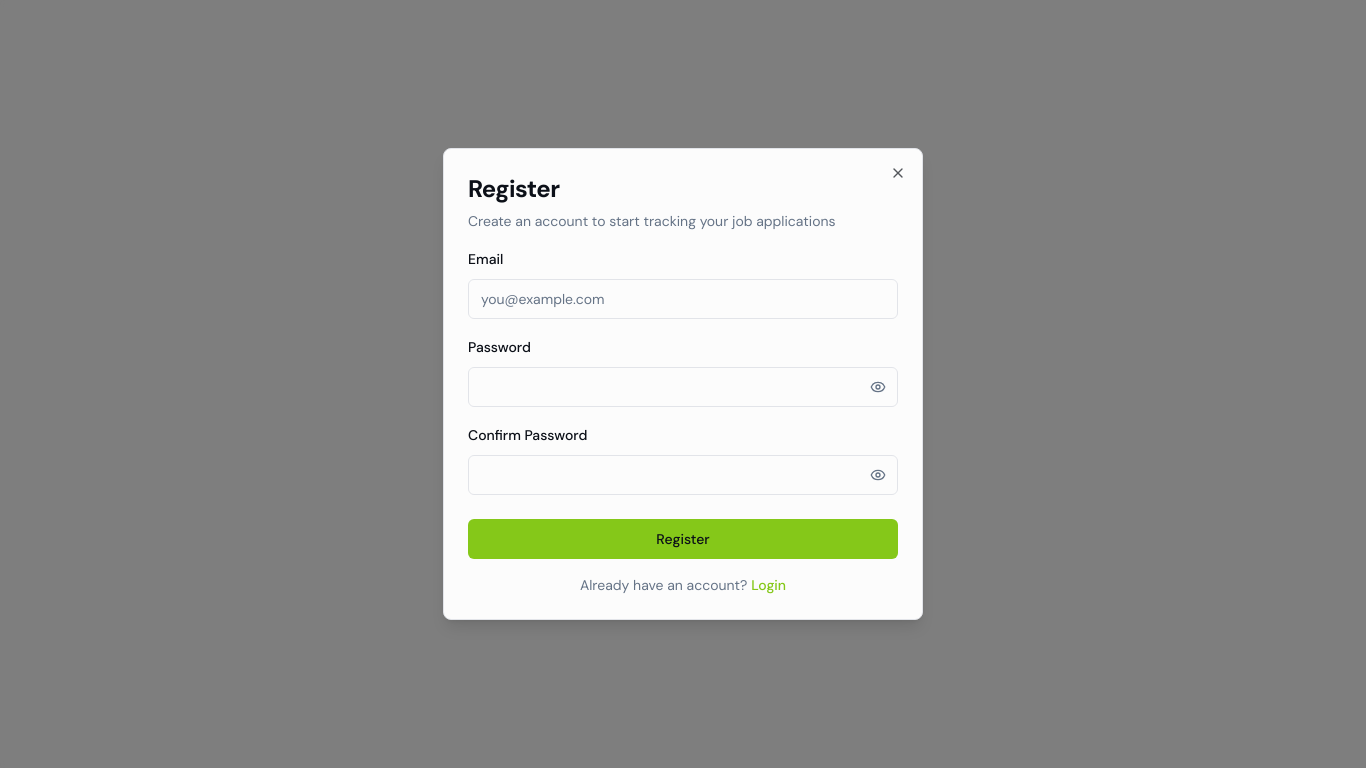
Test: a password the server refused, in en › localises USER_ALREADY_EXISTS in the registration form
Step 1. Type "user@test.com" into the field labelled "Email" → {"x": 683, "y": 299}, box [468,279,898,319]
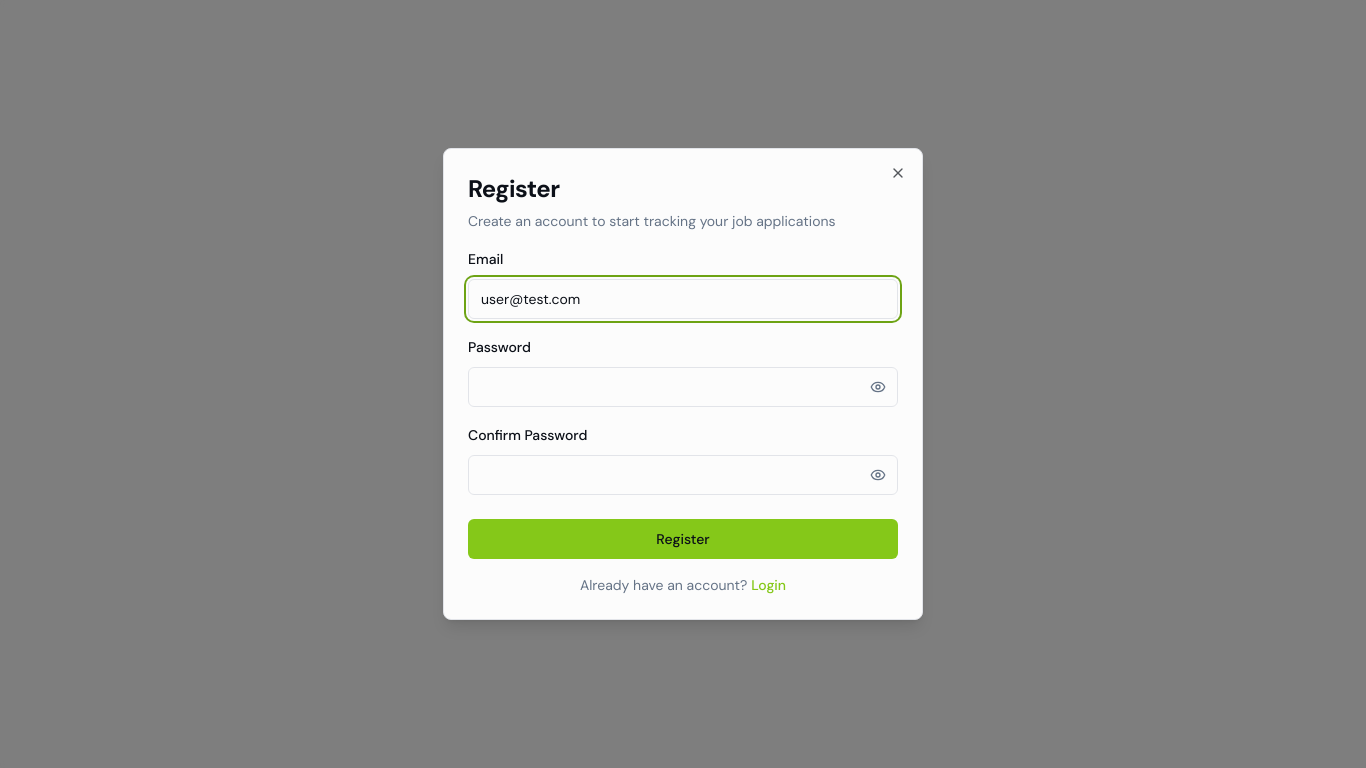
Step 2. Type "validpass1" into the password field labelled "Password" → {"x": 683, "y": 387}, box [468,367,898,407]
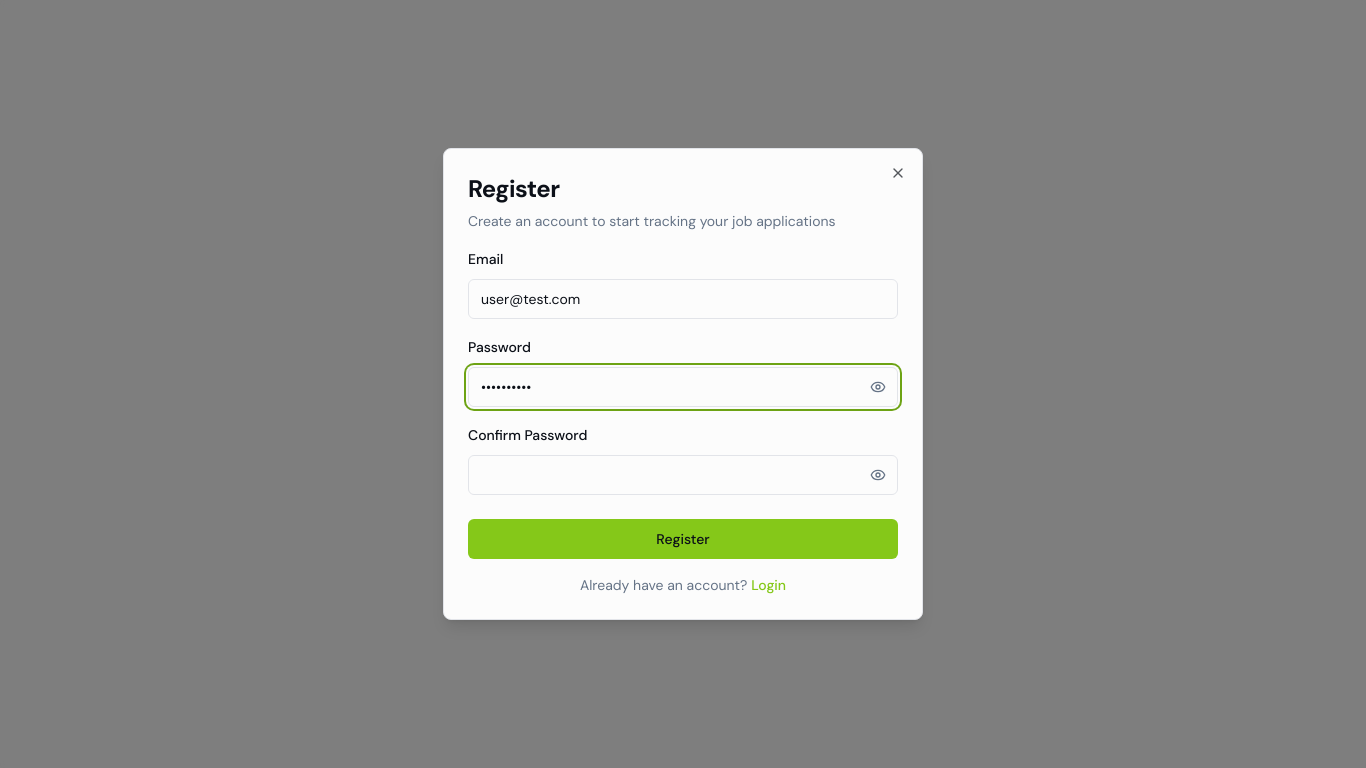
Step 3. Type "validpass1" into the password field labelled "Confirm Password" → {"x": 683, "y": 475}, box [468,455,898,495]
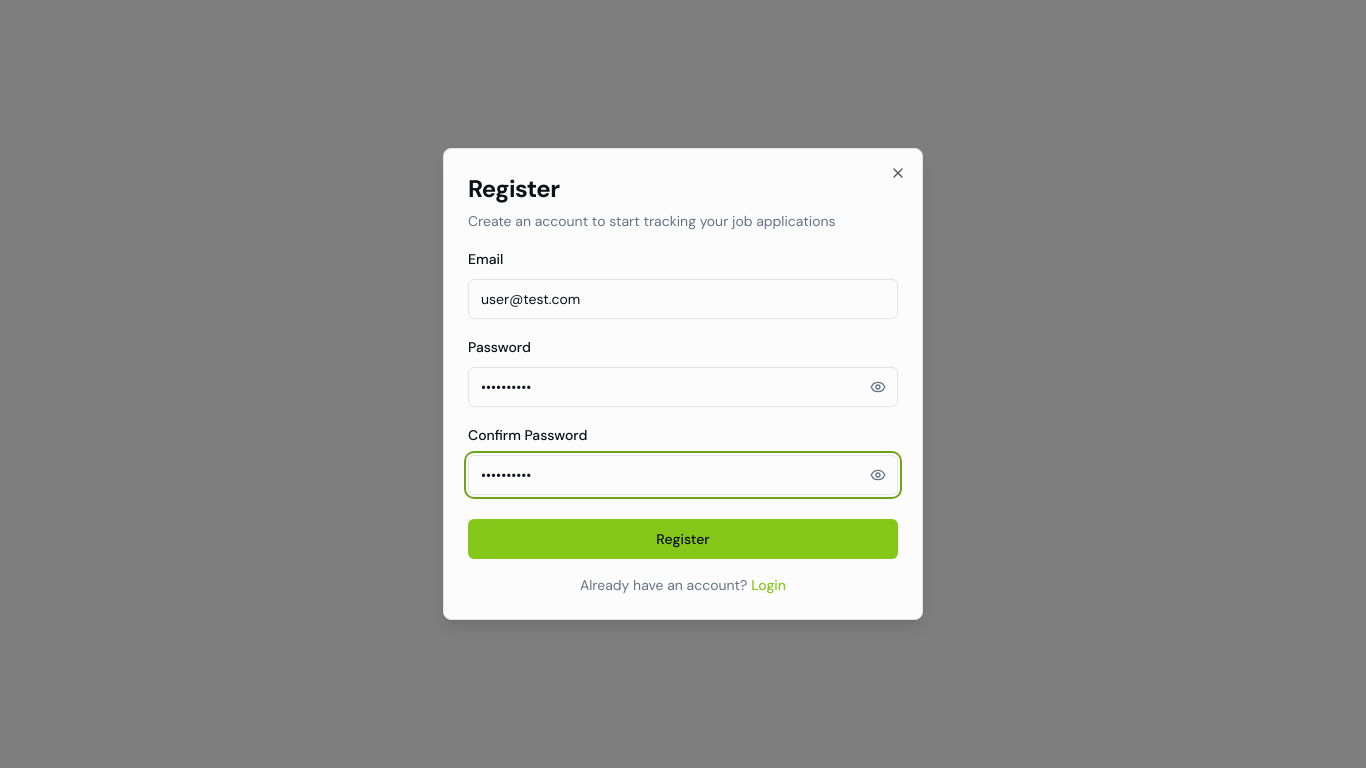
Step 4. Click the button "Register" → {"x": 683, "y": 539}, box [468,519,898,559]
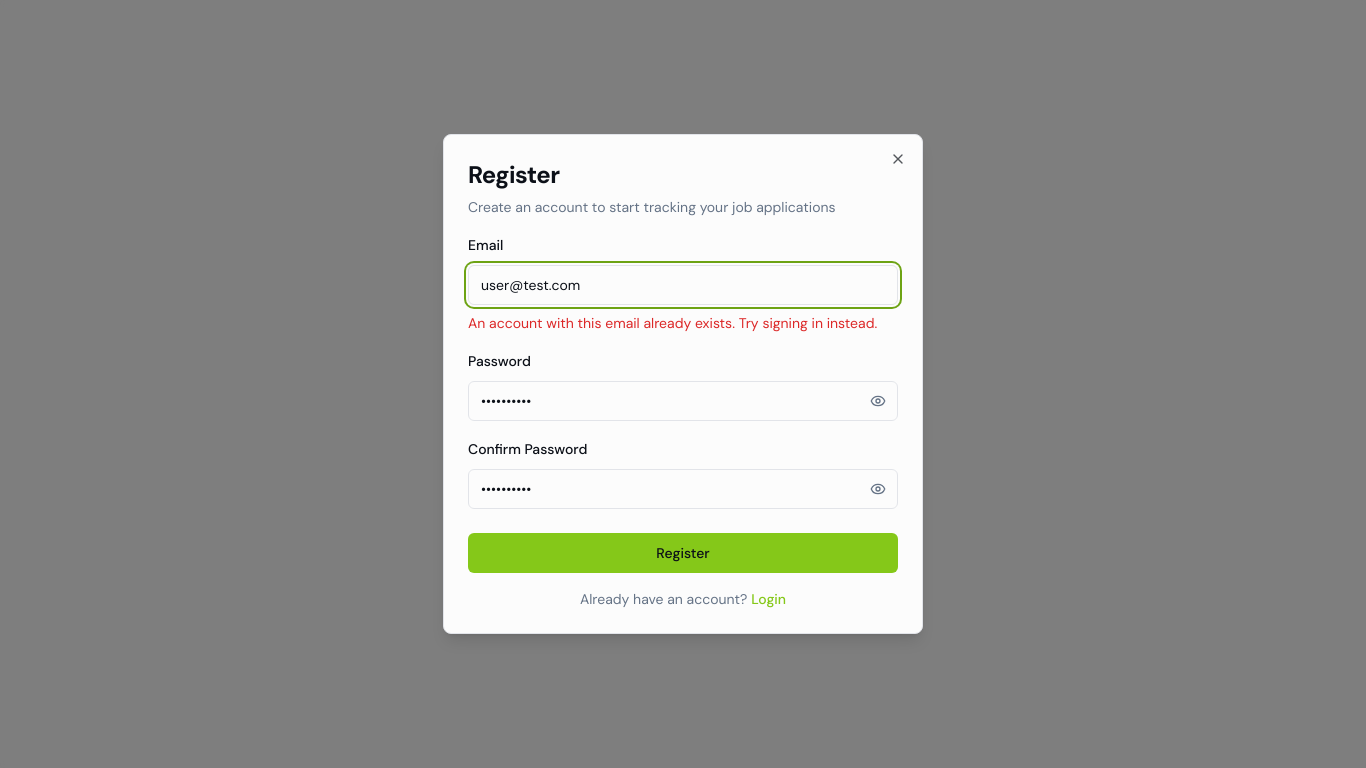
Expected: the text "An account with this email already exists. Try signing in instead." is shown, [468,313,898,333]
